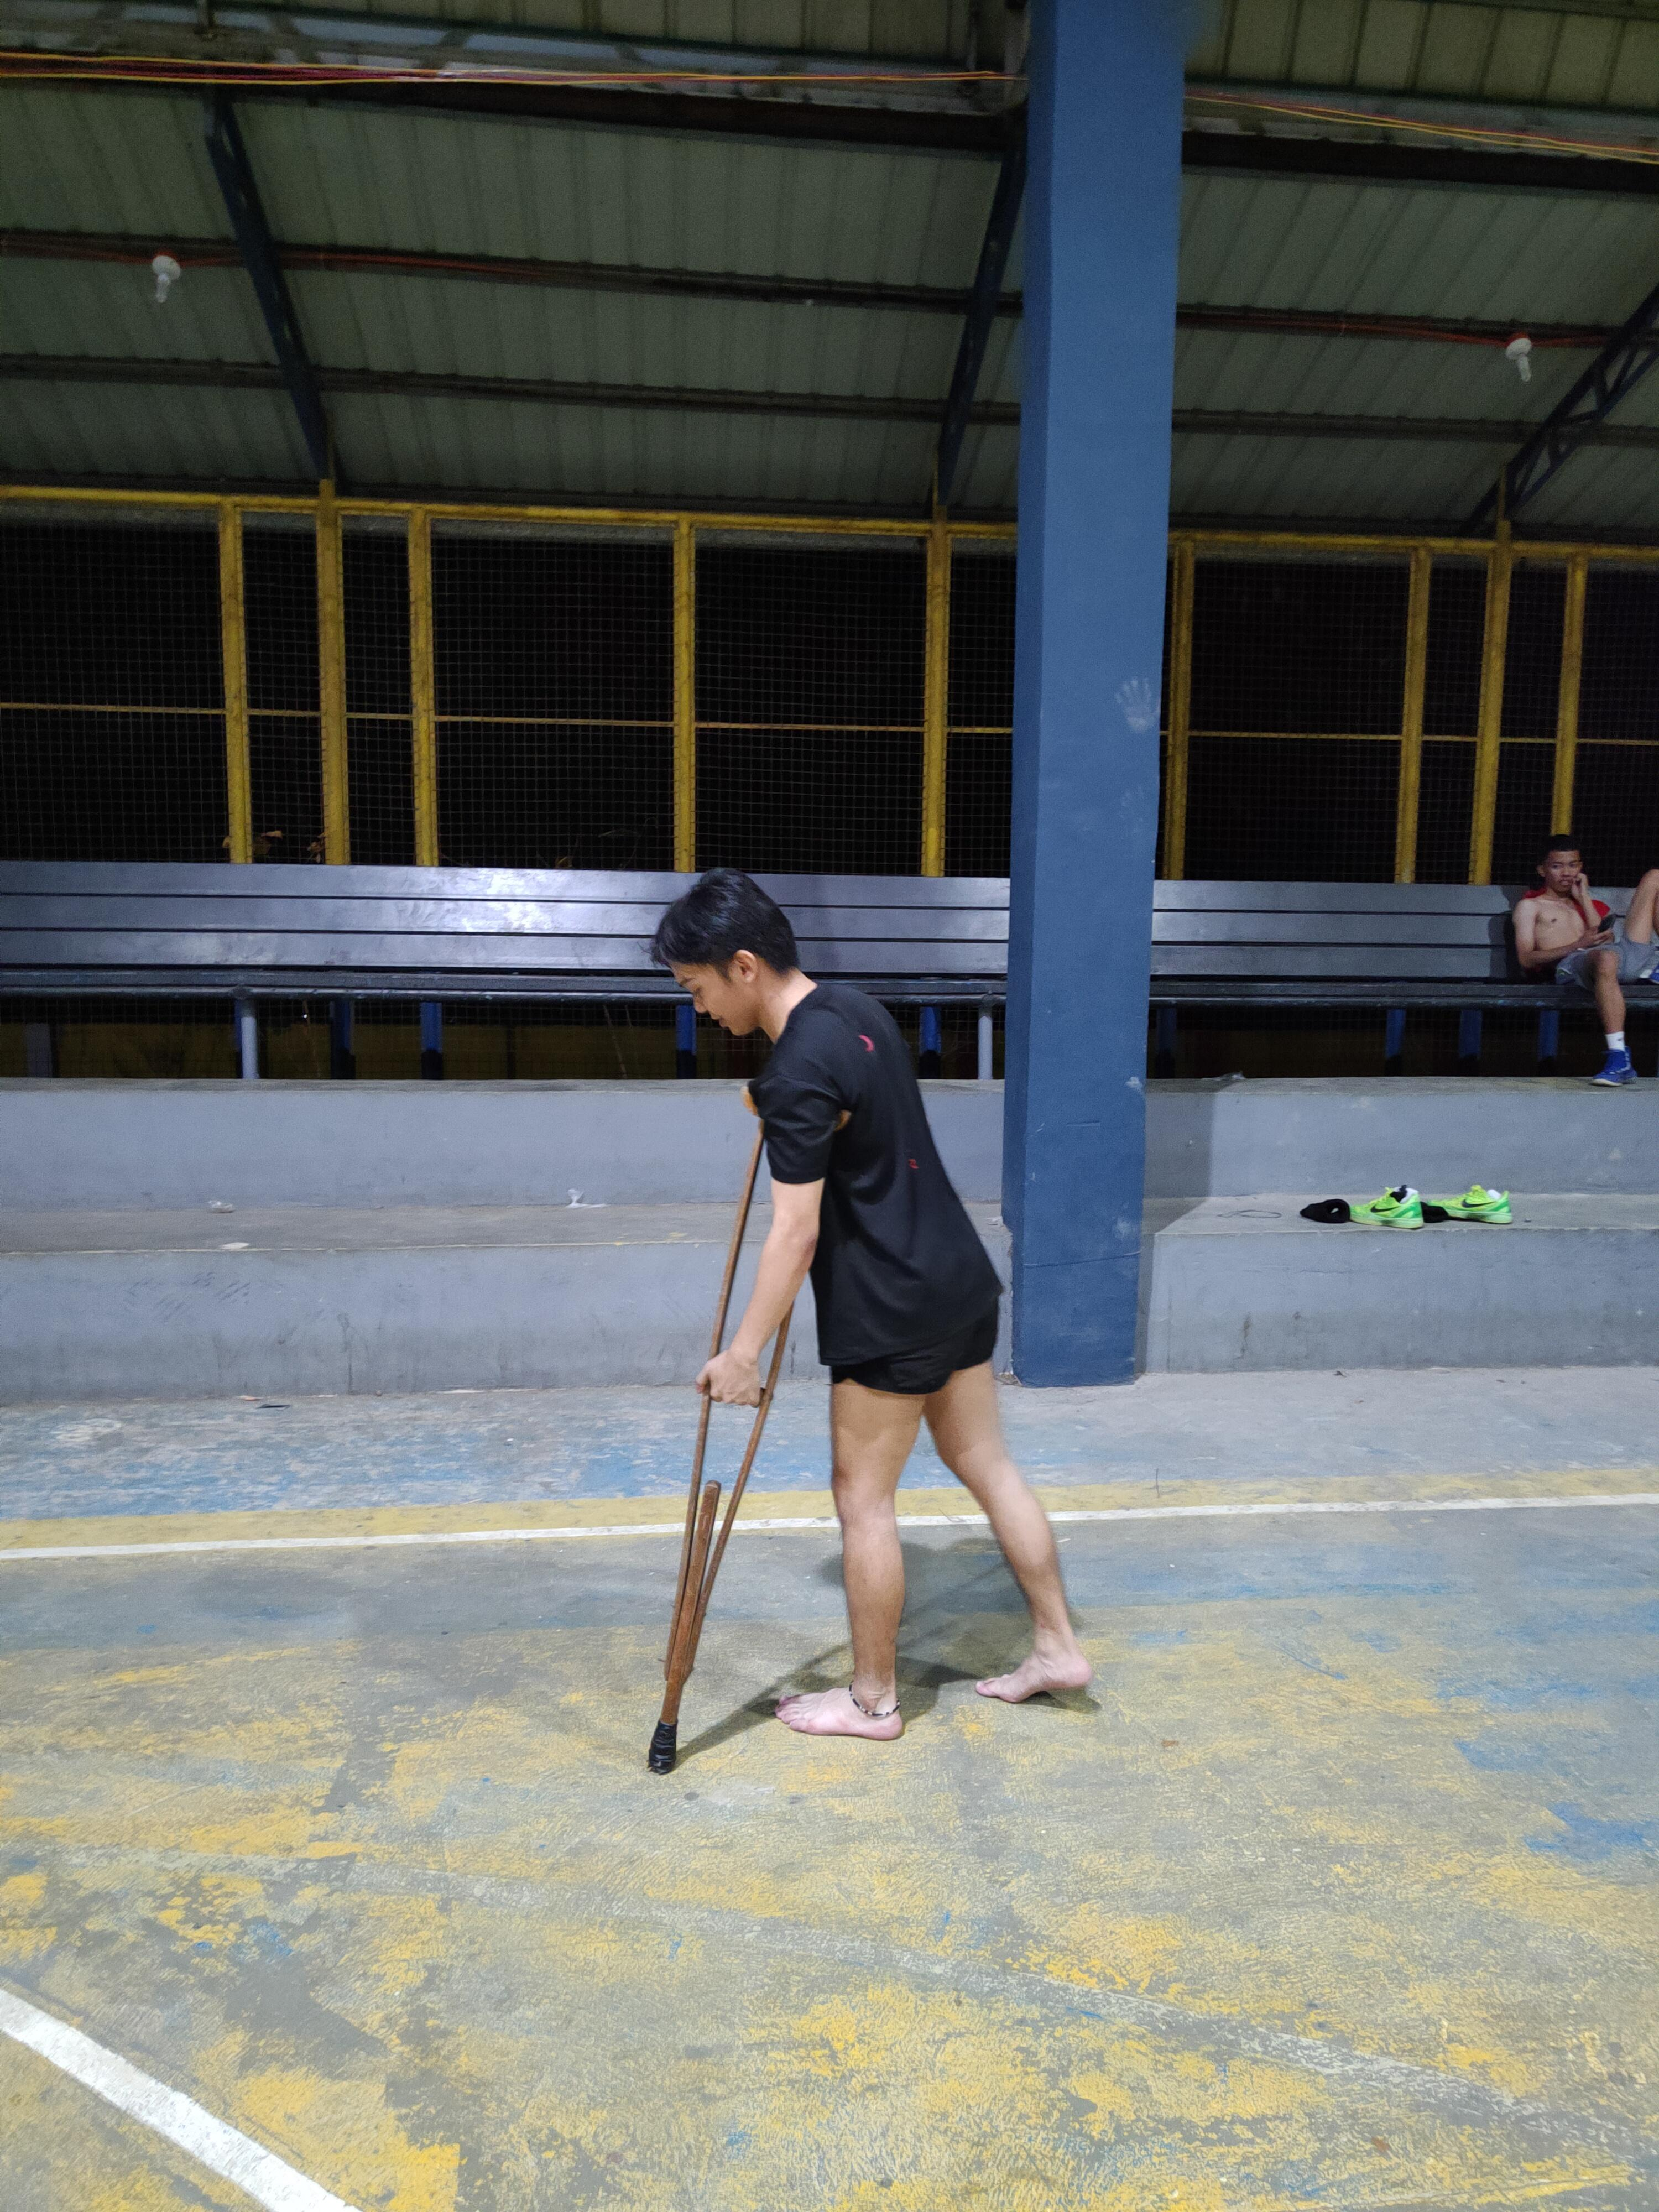crutches: (631, 853, 1115, 1784)
